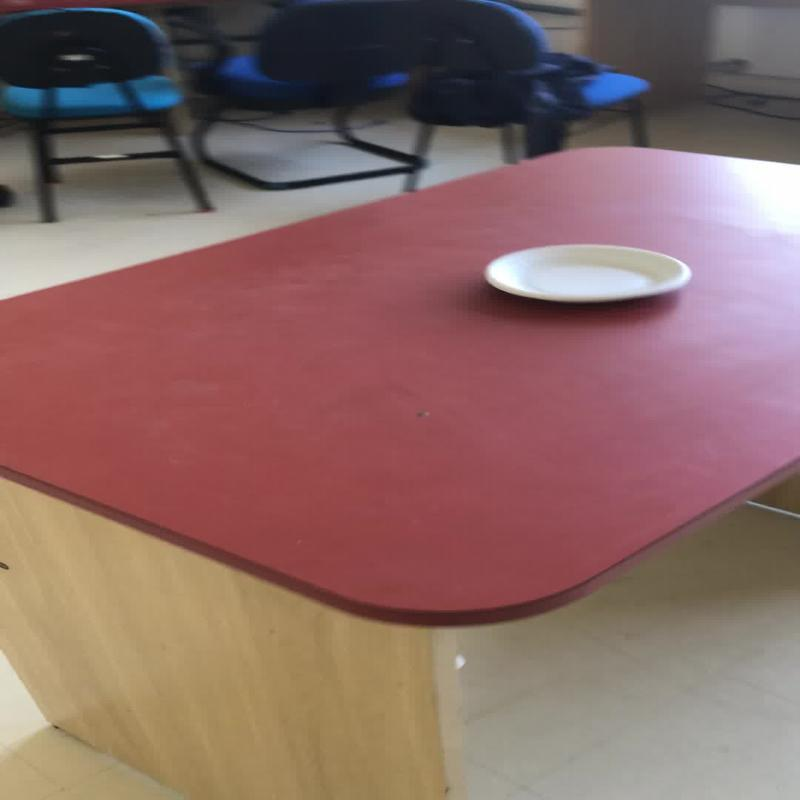plate: (482, 242, 691, 304)
